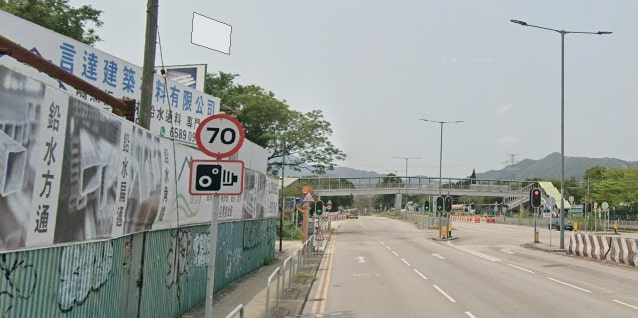Speed Limit: (197, 113, 245, 158)
